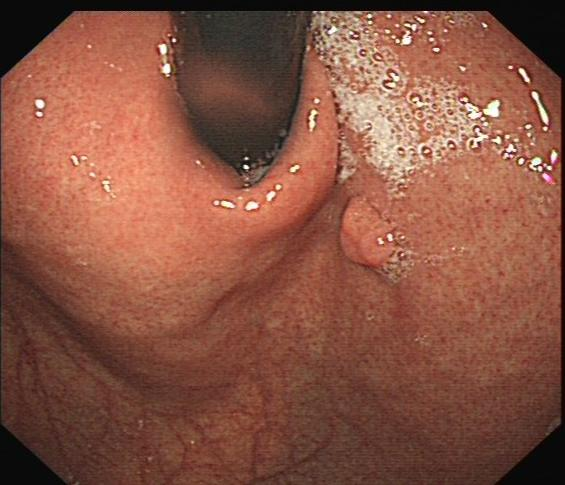Polyp: (327, 192, 405, 280)
